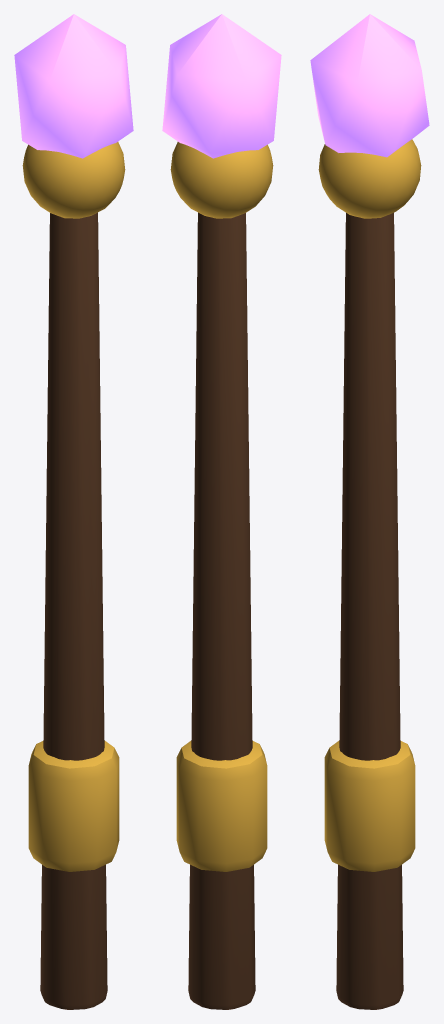
File: wand.glb
3 renders of one model, left to right at view 1: azimuth 30°, elevation 25°; view 2: azimuth 150°, elevation 25°; view 3: azimuth 330°, elevation 25°, orthographic.
Visible parts, largest first — view 1: wpn_wand; view 2: wpn_wand; view 3: wpn_wand.
Part boxes in pixels (left/top/right/bottom): wpn_wand: left=14, top=14, right=133, bottom=1009; wpn_wand: left=162, top=14, right=281, bottom=1009; wpn_wand: left=310, top=14, right=429, bottom=1009.
Size of the model in its own units: 0.1163 by 1.05 by 0.1106.
